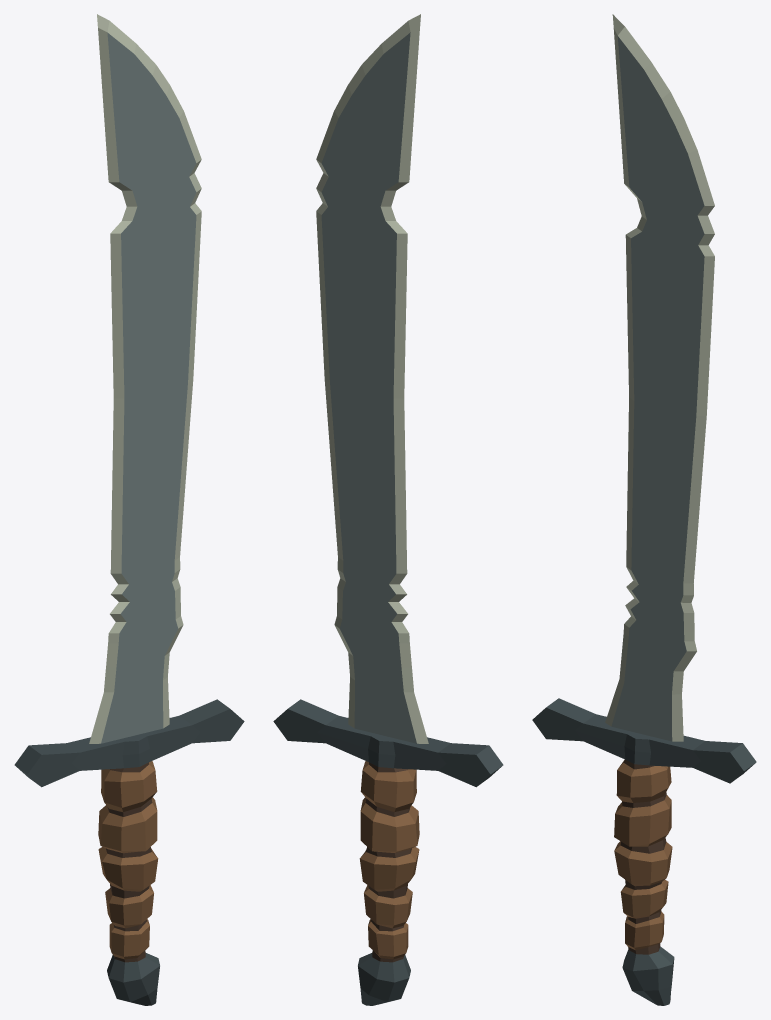
Rendered from sword-broad-tip.glb.
The picture shows the model from 3 angles, left to right: view 1: azimuth 30°, elevation 25°; view 2: azimuth 150°, elevation 25°; view 3: azimuth 330°, elevation 25°; orthographic projection. The views are drawn at different scales.
Parts seen in each view (by area): view 1: sword-broad-tip runtime mesh; view 2: sword-broad-tip runtime mesh; view 3: sword-broad-tip runtime mesh.
Part boxes in pixels (box(x1,y1,x2,y2)): sword-broad-tip runtime mesh: box(14, 14, 244, 1005); sword-broad-tip runtime mesh: box(273, 14, 503, 1005); sword-broad-tip runtime mesh: box(532, 14, 756, 1005).
Bounding box in the file's own units: 0.2499 × 1.1 × 0.0637.
